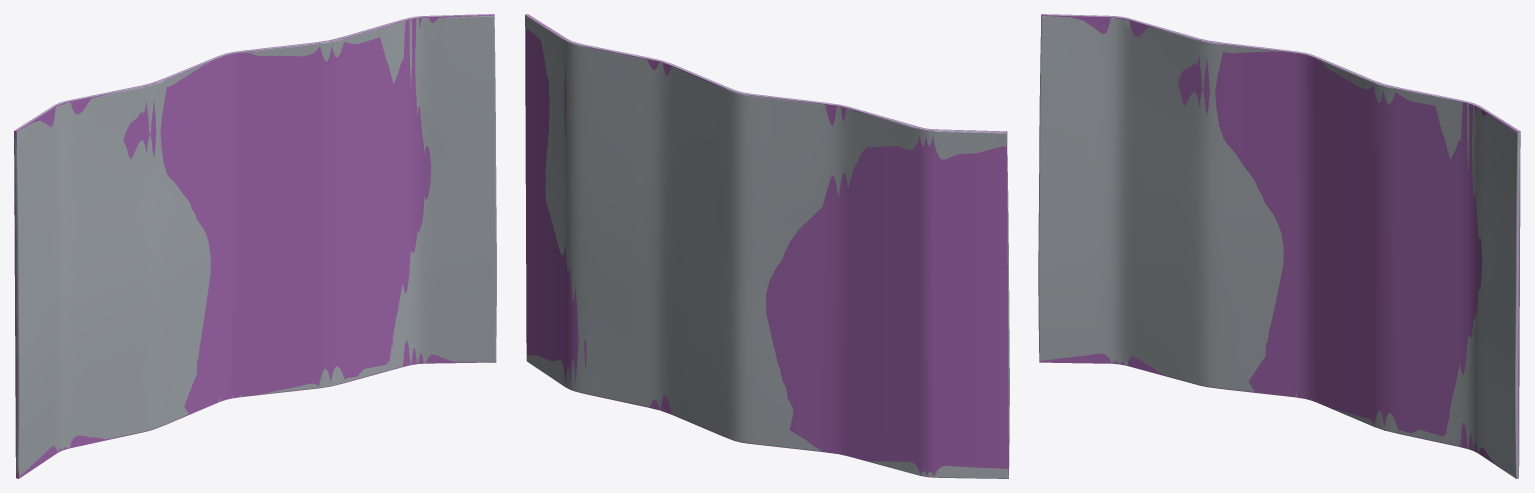
File: [decor] Material dummy - sheet of metal.fbx
The picture shows the model from 3 angles, left to right: view 1: azimuth 30°, elevation 25°; view 2: azimuth 150°, elevation 25°; view 3: azimuth 330°, elevation 25°; orthographic projection.
Visible parts, largest first — view 1: Sheet of metal_LOD0, Sheet of metal_PHYS; view 2: Sheet of metal_LOD0, Sheet of metal_PHYS; view 3: Sheet of metal_LOD0, Sheet of metal_PHYS.
Part boxes in pixels (box(x1,y1,x2,y2)): Sheet of metal_LOD0: box(14, 14, 496, 476); Sheet of metal_PHYS: box(14, 14, 496, 478); Sheet of metal_LOD0: box(525, 15, 1009, 478); Sheet of metal_PHYS: box(525, 14, 1008, 478); Sheet of metal_LOD0: box(1038, 14, 1520, 478); Sheet of metal_PHYS: box(1039, 14, 1520, 478).
Size of what is drawn, in the model's own units: 246 by 169 by 28.26.
